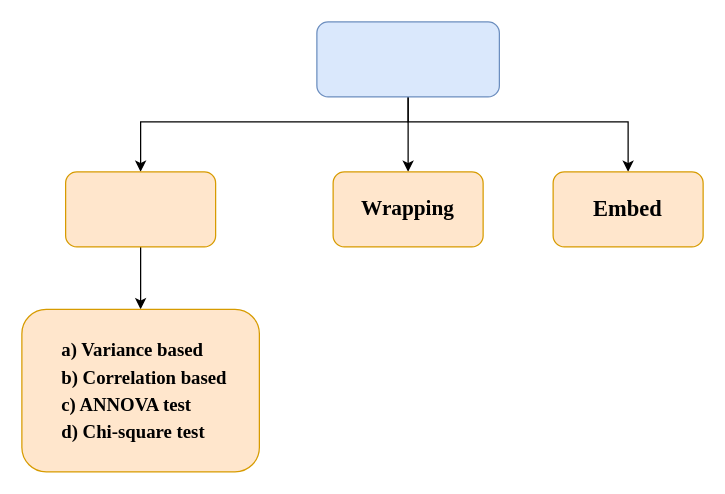
Some shapes in this 725 by 494 pixel diagram are drawn without their labels. The shapes that lost their labels are listed below. From the top down, each one's centre as x and y in pixels, then its label:
[407,59]: Feature Selection
[140,209]: Filter-based
